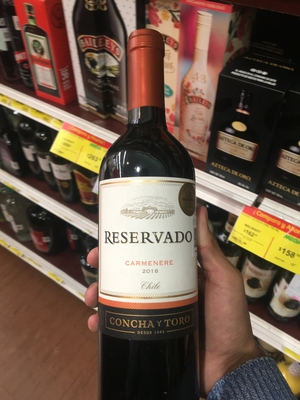reservado carmenere: (97, 30, 200, 393)
